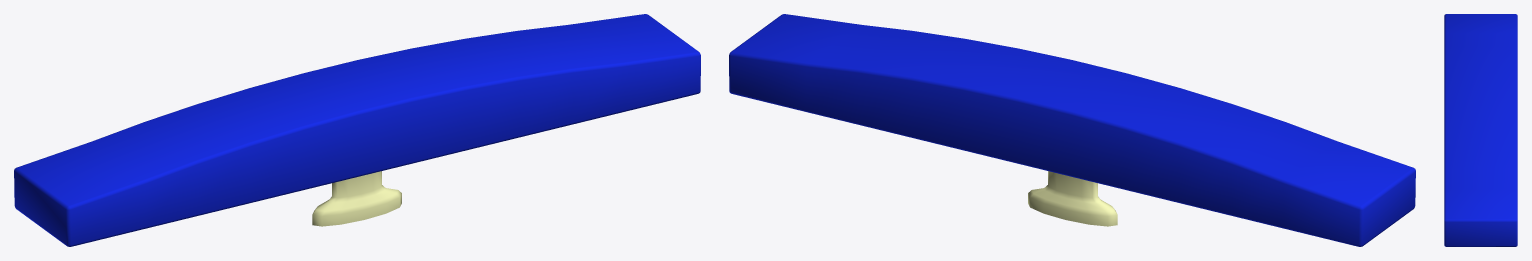
Rendered from PaddleBlue.fbx.
3 renders of one model, left to right at view 1: azimuth 30°, elevation 25°; view 2: azimuth 150°, elevation 25°; view 3: azimuth 270°, elevation 25°, orthographic. The views are drawn at different scales.
Parts seen in each view (by area): view 1: paddle.001, paddleholder.001; view 2: paddle.001, paddleholder.001; view 3: paddle.001.
Boxes of the visible parts, left/top/right/bottom form: paddle.001: left=14, top=14, right=700, bottom=246; paddleholder.001: left=312, top=171, right=401, bottom=226; paddle.001: left=729, top=14, right=1415, bottom=246; paddleholder.001: left=1028, top=171, right=1117, bottom=226; paddle.001: left=1444, top=14, right=1517, bottom=246.
Bounding box in the file's own units: 42.8 × 8.29 × 6.43.
